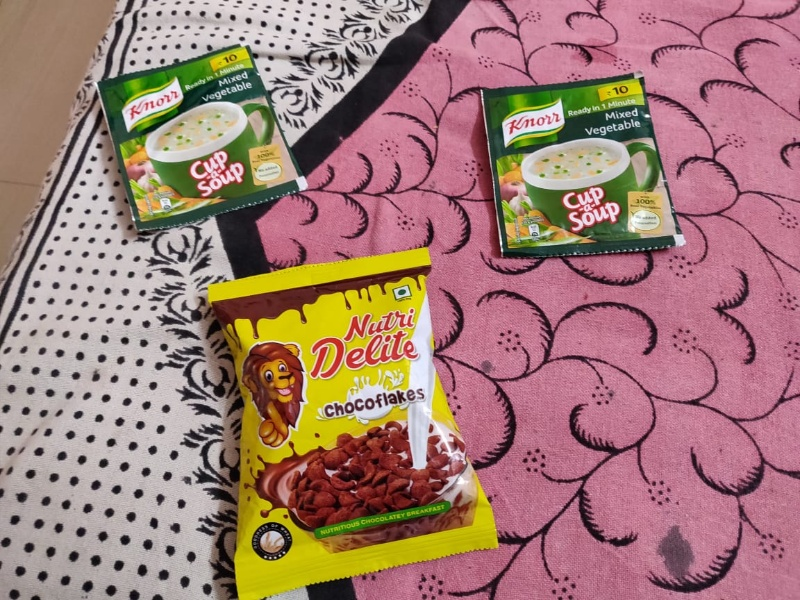Knorr_Cup_Soup: (485, 75, 682, 250), (94, 56, 308, 217)
nutriDelite: (210, 269, 485, 569)
